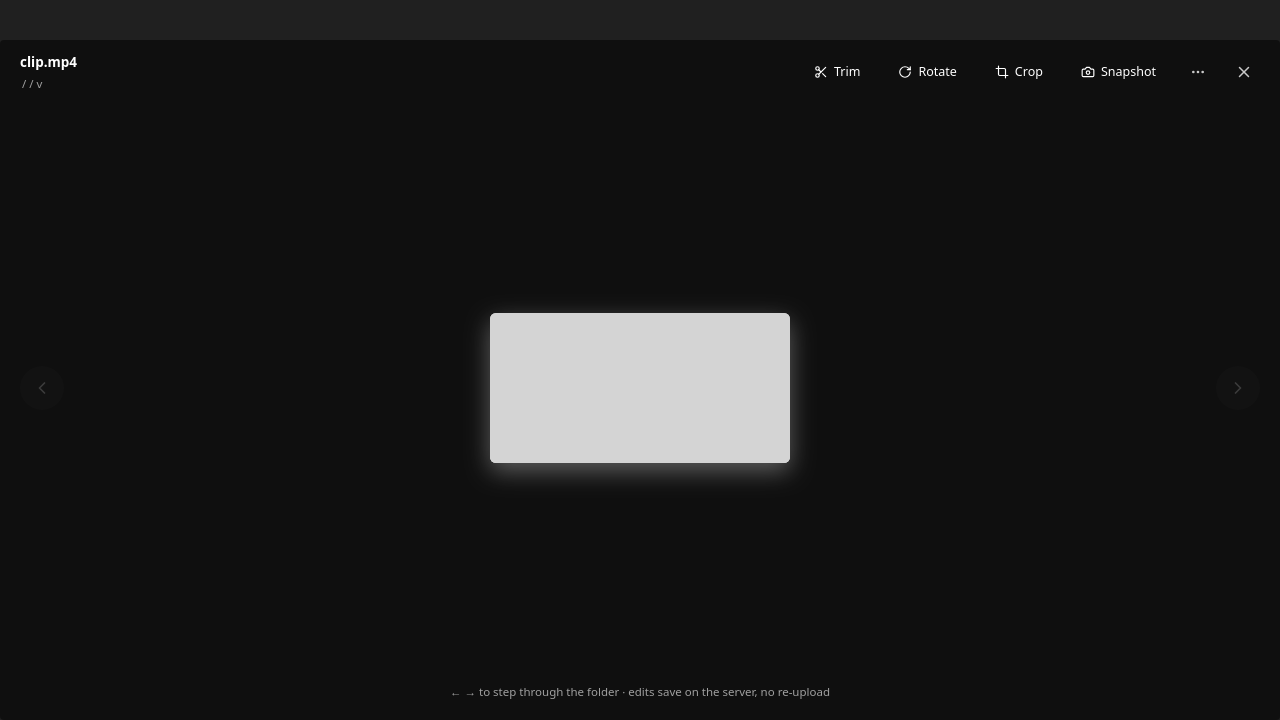
Test case: QuickLookOverlay trim toolbar › shows draggable in/out handles and no manual Set buttons
Click the button with aria-label "Trim video": (837, 72) [802,56,872,88]
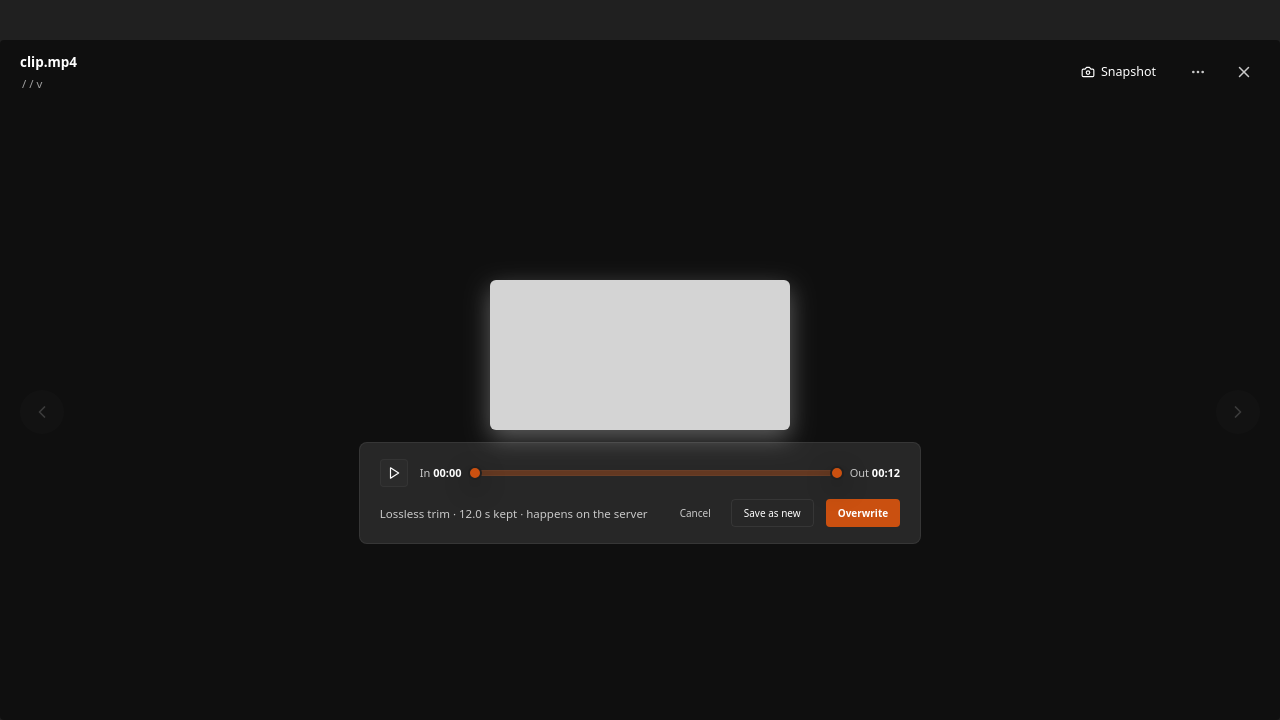
Expected: the slider named "Trim start" is shown, [468,466,482,480]
Expected: the slider named "Trim end" is shown, [830,466,844,480]
Expected: the text "00:00" is shown, [433,465,462,480]
